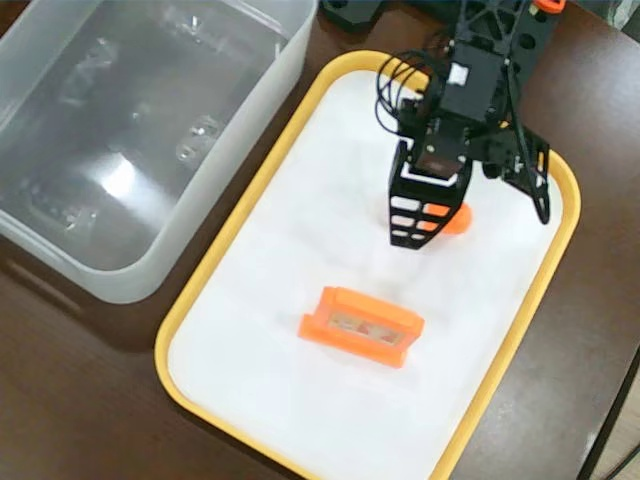pill: (376, 195, 475, 235)
